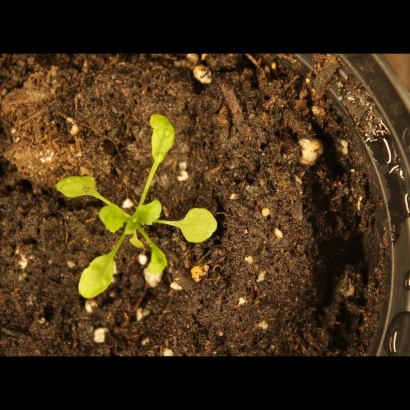leaf: (76, 247, 120, 307), (176, 204, 221, 254), (143, 107, 179, 169), (54, 169, 102, 204), (131, 195, 169, 232), (95, 201, 131, 234), (148, 242, 171, 278), (124, 234, 147, 257)
